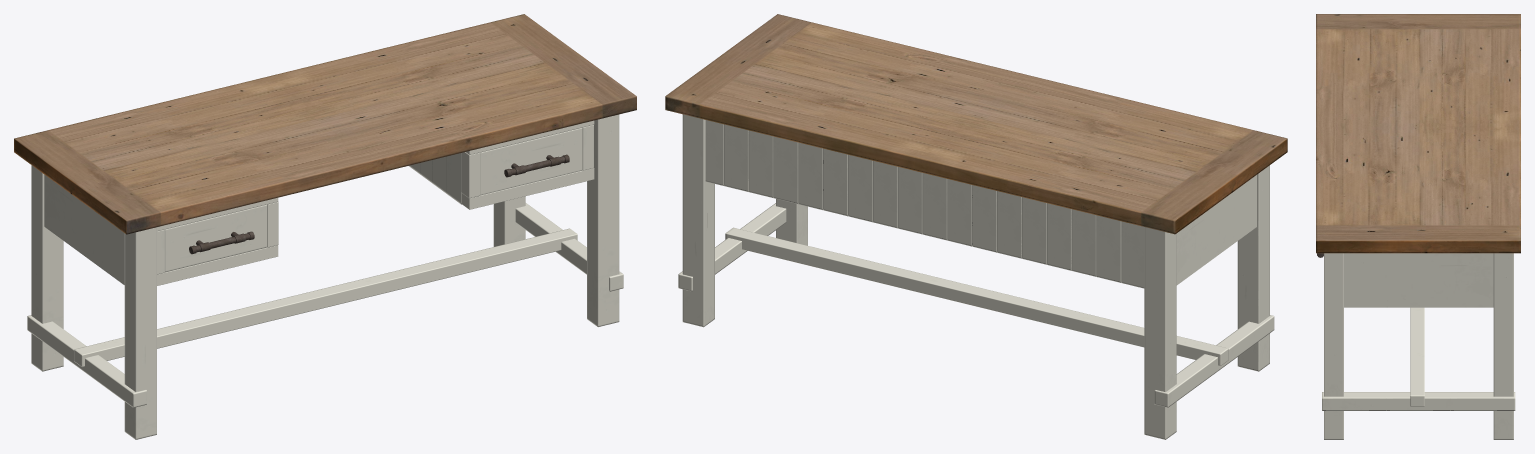
Rendered from desk_B075Z93NK8.glb.
The picture shows the model from 3 angles, left to right: view 1: azimuth 30°, elevation 25°; view 2: azimuth 150°, elevation 25°; view 3: azimuth 270°, elevation 25°; orthographic projection. The views are drawn at different scales.
Parts seen in each view (by area): view 1: RootNode; view 2: RootNode; view 3: RootNode.
Boxes of the visible parts, <box> form: RootNode: <box>14,14,636,439</box>; RootNode: <box>665,14,1287,439</box>; RootNode: <box>1316,14,1520,439</box>.
Bounding box in the file's own units: 1.8 × 0.7616 × 0.6884.
Materials: 1 (1 with a texture image).
